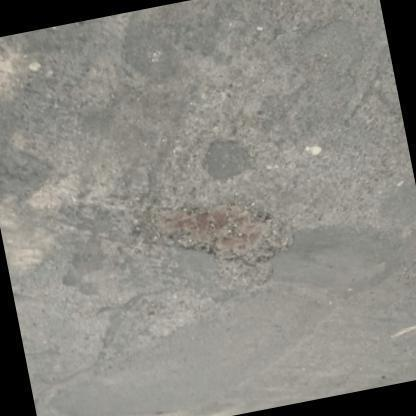pothole: (134, 186, 282, 274), (0, 161, 106, 277)
